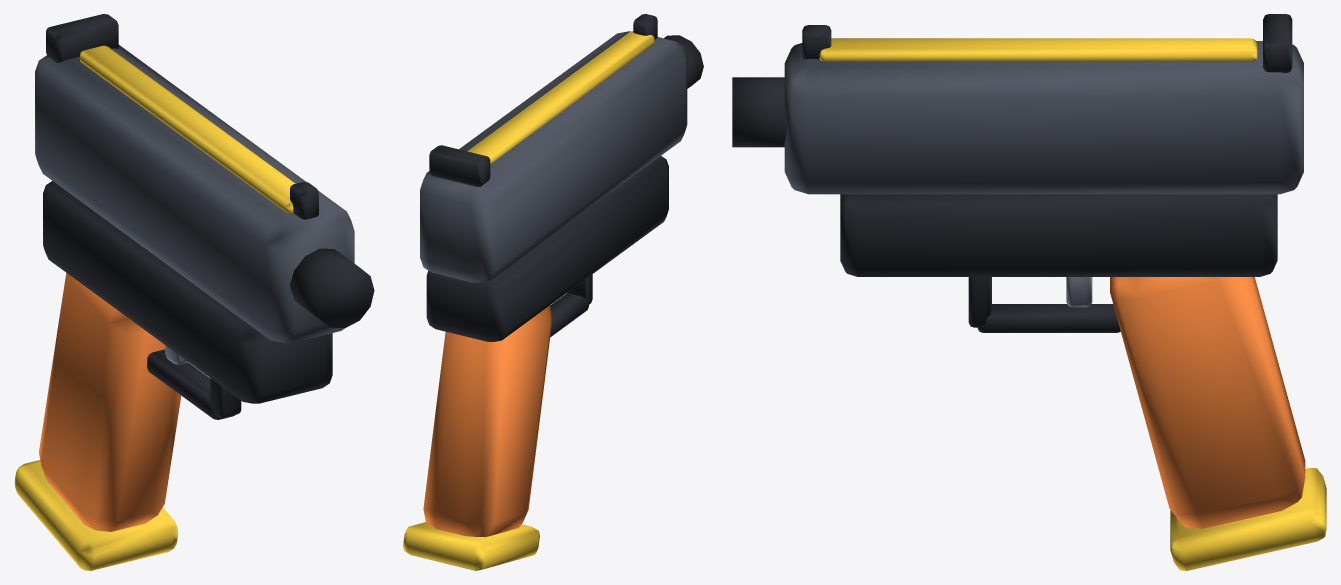
Rendered from pistol.glb.
The picture shows the model from 3 angles, left to right: view 1: azimuth 30°, elevation 25°; view 2: azimuth 150°, elevation 25°; view 3: azimuth 270°, elevation 25°; orthographic projection. The views are drawn at different scales.
Visible parts, largest first — view 1: Pistol, Mag; view 2: Pistol, Mag; view 3: Pistol, Mag.
Boxes of the visible parts, x1=… form: Pistol: x1=35, y1=14, x2=374, y2=531; Mag: x1=14, y1=460, x2=178, y2=570; Pistol: x1=420, y1=14, x2=703, y2=537; Mag: x1=403, y1=522, x2=539, y2=570; Pistol: x1=732, y1=14, x2=1305, y2=528; Mag: x1=1170, y1=468, x2=1326, y2=570.
Size of the model in its own units: 0.04 by 0.1979 by 0.2038.
Materials: 1 (1 with a texture image).
